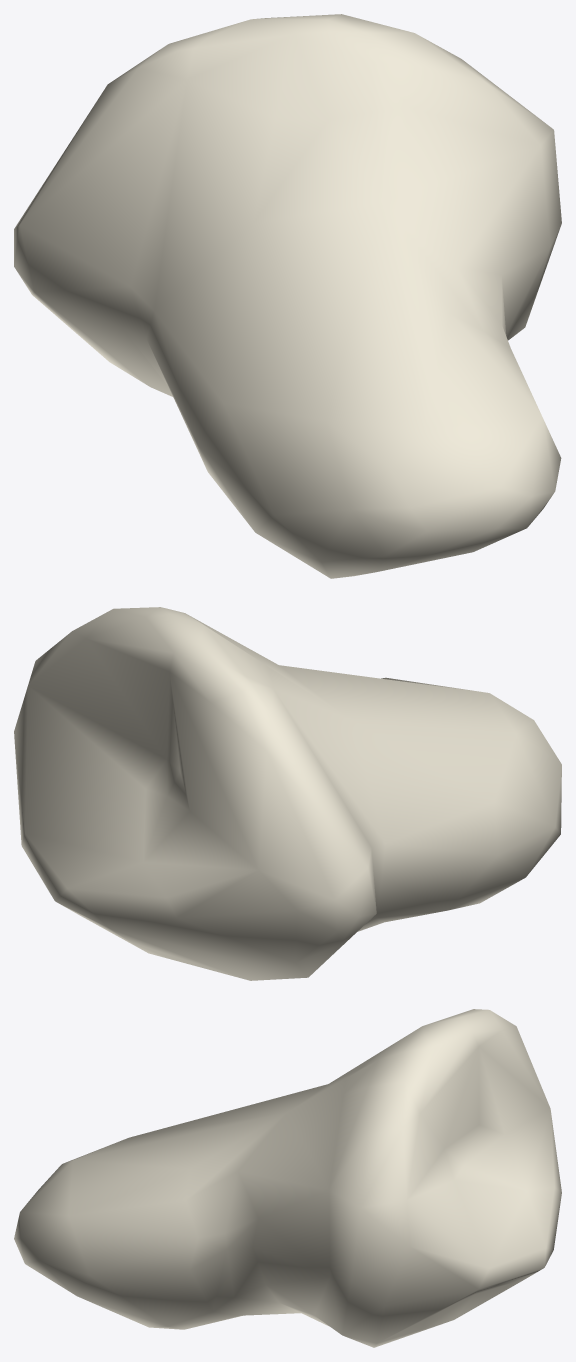
3 renders of one model, top to bottom at view 1: azimuth 30°, elevation 25°; view 2: azimuth 150°, elevation 25°; view 3: azimuth 270°, elevation 25°, orthographic. The views are drawn at different scales.
Parts seen in each view (by area): view 1: ZA_9d3008c2cf380cb1; view 2: ZA_9d3008c2cf380cb1; view 3: ZA_9d3008c2cf380cb1.
Part boxes in pixels (box(x1,y1,x2,y2)): ZA_9d3008c2cf380cb1: box(14, 14, 561, 578); ZA_9d3008c2cf380cb1: box(14, 607, 561, 980); ZA_9d3008c2cf380cb1: box(14, 1009, 561, 1347).
Size of the model in its own units: 0.00879 by 0.00733 by 0.0117.
